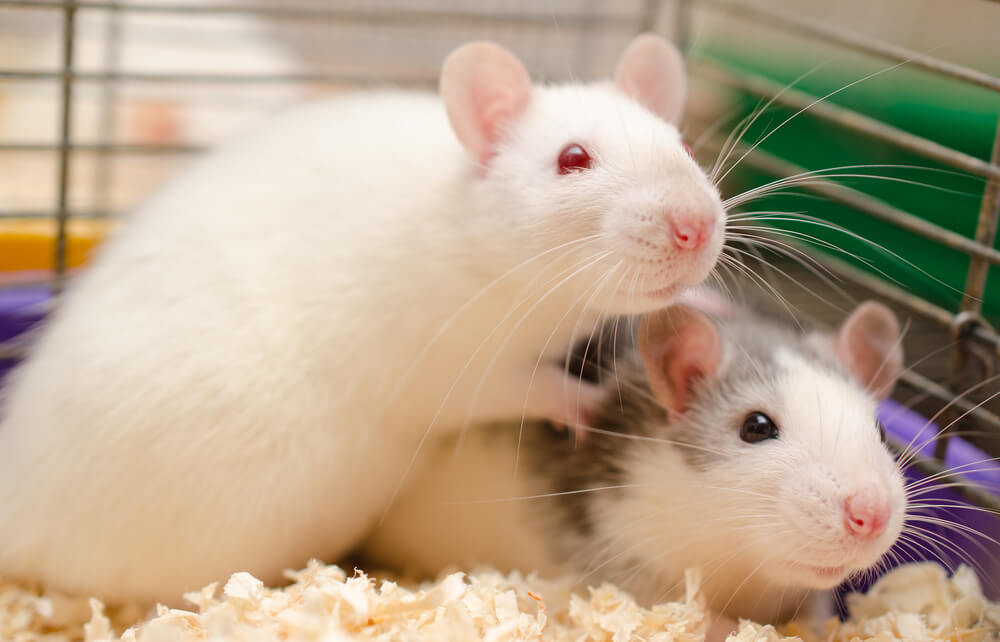rat: (83, 17, 773, 458), (465, 271, 962, 641)
